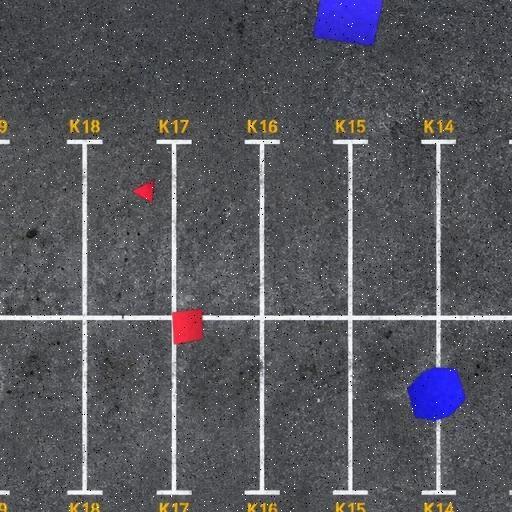BLUE_SQUARE: (312, 0, 386, 47)
RED_SQUARE: (171, 308, 204, 346)
